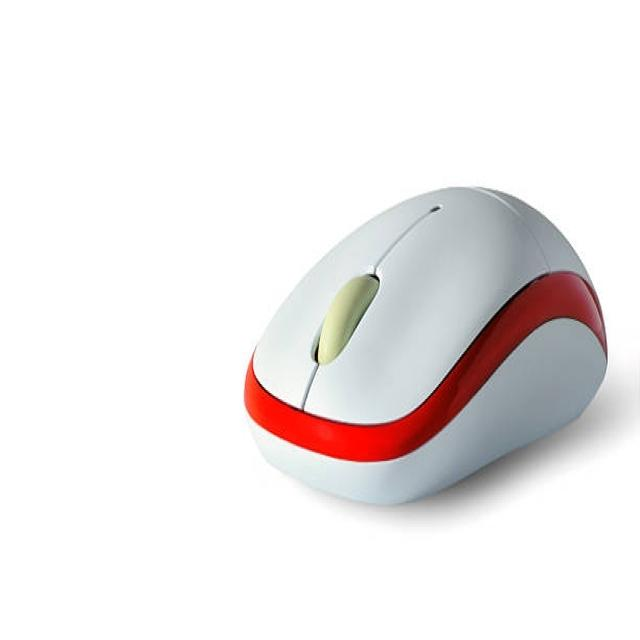mouse: (211, 148, 621, 514)
